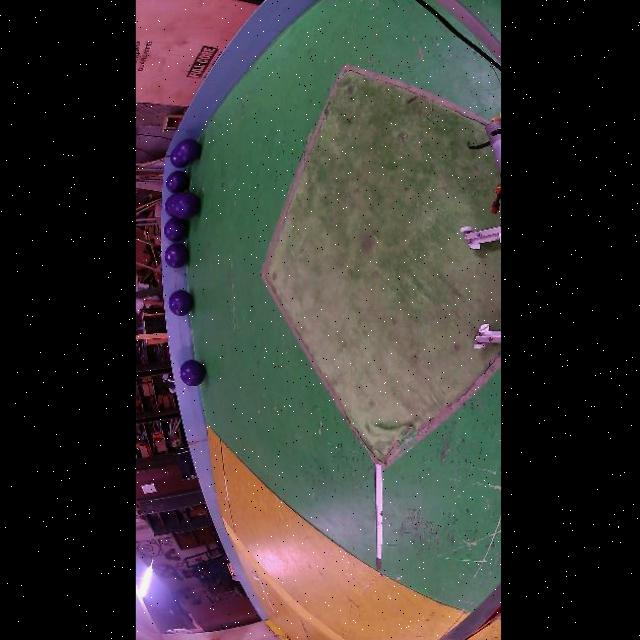P: (169, 191, 199, 219), (178, 360, 204, 386), (167, 289, 191, 316), (176, 138, 200, 162), (162, 218, 186, 242), (163, 244, 187, 268), (164, 171, 187, 193), (168, 148, 188, 169), (163, 194, 173, 218)
